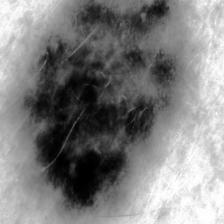Benign Marking or Mole: (6, 0, 184, 217)
